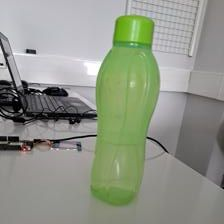bottle: (87, 14, 160, 207)
